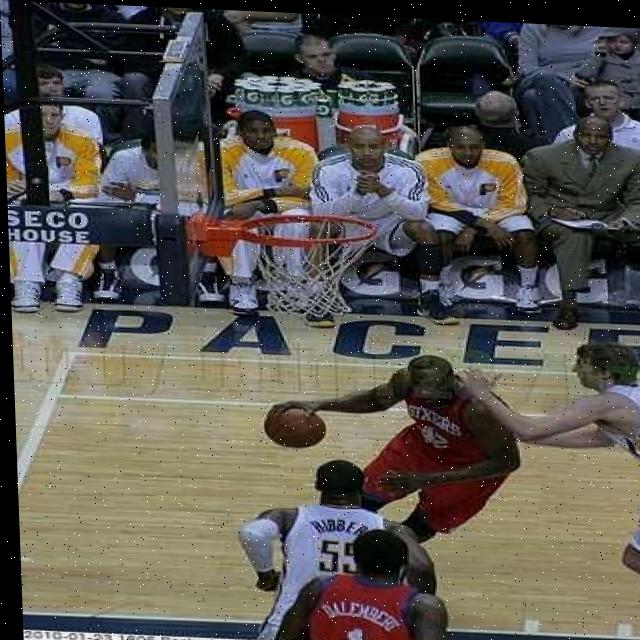basketball: (263, 402, 328, 451)
hoop: (238, 209, 388, 329)
